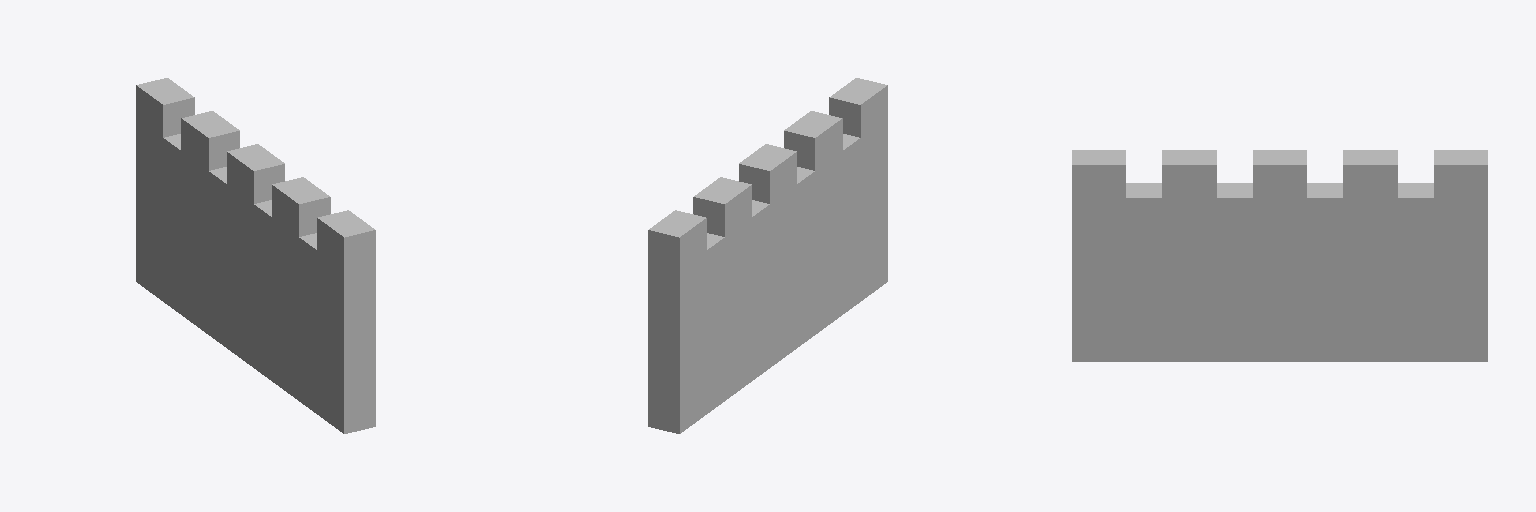
File: Stena(90) - 2.obj
3 renders of one model, left to right at view 1: azimuth 30°, elevation 25°; view 2: azimuth 150°, elevation 25°; view 3: azimuth 270°, elevation 25°, orthographic.
Parts seen in each view (by area): view 1: object 1; view 2: object 1; view 3: object 1.
Boxes of the visible parts, x1=… form: object 1: x1=136, y1=78, x2=375, y2=433; object 1: x1=648, y1=78, x2=887, y2=433; object 1: x1=1072, y1=150, x2=1487, y2=361.
Bounding box in the file's own units: 1.6 × 9.6 × 18.4.